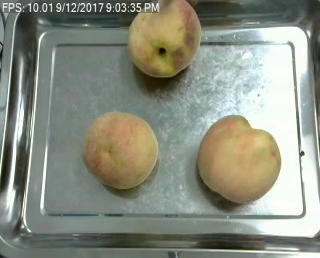Peach: (196, 113, 280, 204), (81, 111, 159, 190), (127, 0, 201, 78)
